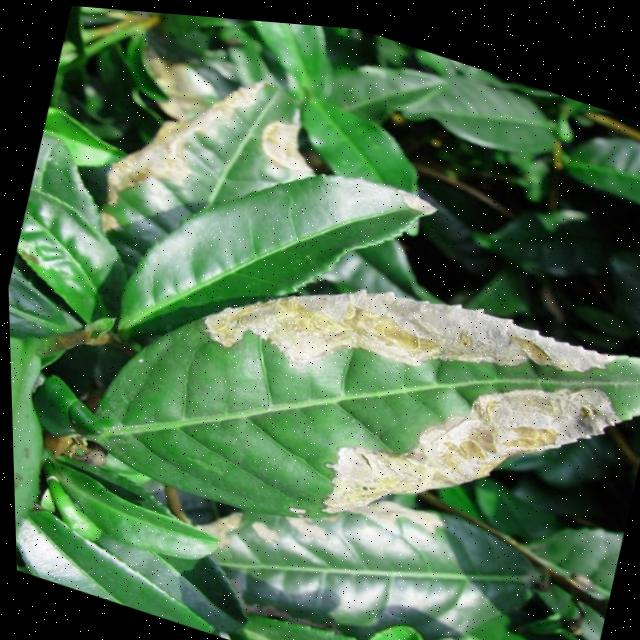Tea cloud leaf blight: (214, 211, 640, 475), (293, 296, 640, 609)
